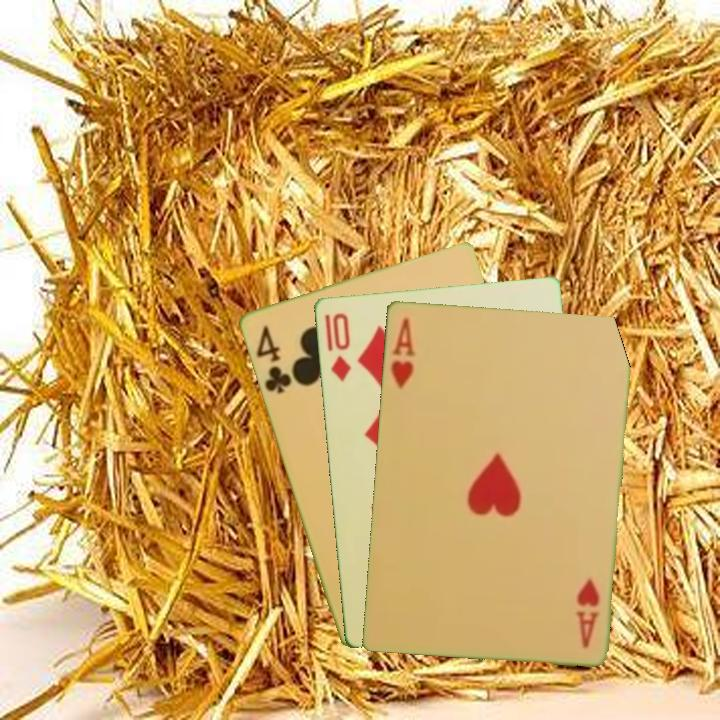10d: (326, 308, 353, 384)
4c: (252, 321, 294, 397)
Ah: (387, 314, 417, 391), (573, 574, 602, 651)
